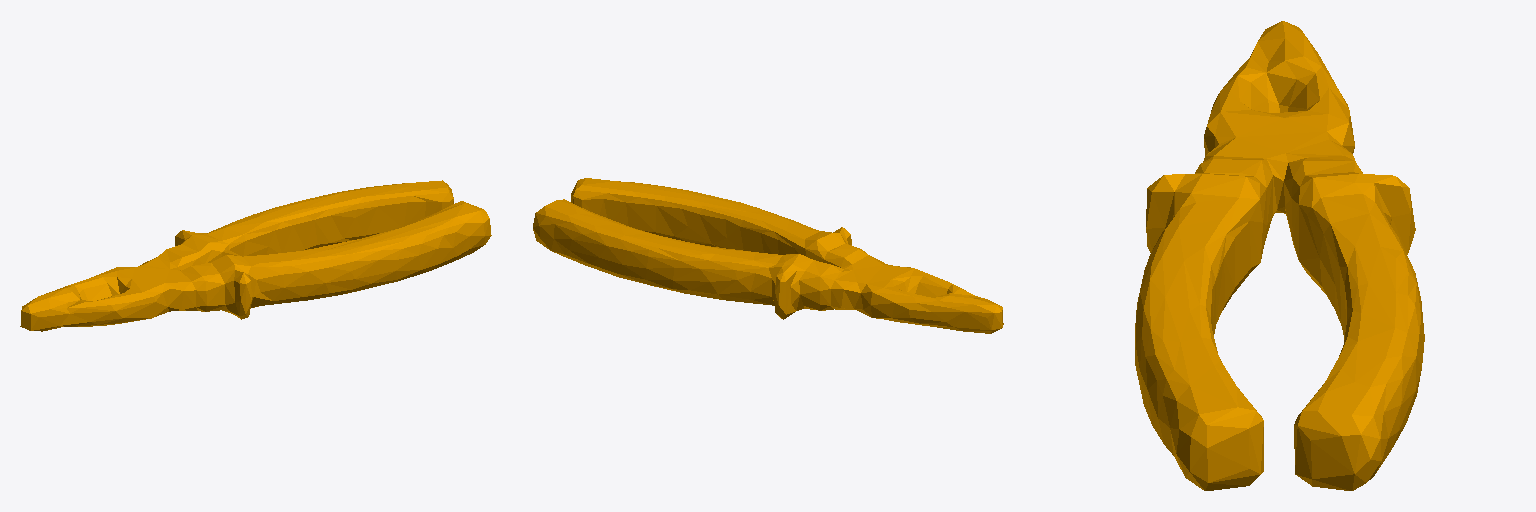
URDF robot description (pliers_poisson_017):
<?xml version="1.0"?>
<robot name="pliers_poisson_017">
  <link name="base_link">
    <contact>
      <lateral_friction value="1.0"/>
      <rolling_friction value="0.0"/>
      <contact_cfm value="0.0"/>
      <contact_erp value="1.0"/>
    </contact>
    <inertial>
      <mass value="0.0675058625581"/>
      <inertia ixx="1" ixy="0" ixz="0" iyy="1" iyz="0" izz="1"/>
    </inertial>
    <visual>
      <geometry>
        <mesh filename="pliers_poisson_017_visual.obj"/>
      </geometry>
    </visual>
    <collision>
      <geometry>
        <mesh filename="pliers_poisson_017_collision.obj"/>
      </geometry>
    </collision>
  </link>
</robot>

--- Facts derived from the render (not from the file) ---
The picture shows the robot from 3 angles, left to right: view 1: azimuth 30°, elevation 25°; view 2: azimuth 150°, elevation 25°; view 3: azimuth 270°, elevation 25°; orthographic projection.
Model pliers_poisson_017 with 1 links and 0 joints (none), rooted at base_link, posed every joint at zero.
Links seen in each view (by area): view 1: base_link; view 2: base_link; view 3: base_link.
Boxes of the visible links, x1,y1,x2,y2 form: base_link: (20,180,491,331); base_link: (533,178,1003,333); base_link: (1135,21,1424,490).
Size in the robot's own frame: 0.2091 by 0.0609 by 0.0225 metres.
1 mesh visuals loaded from 1 distinct referenced files (1 OBJ).